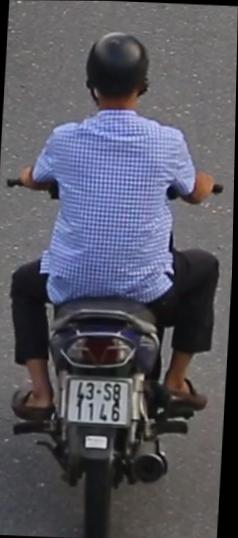LP: (65, 371, 137, 431)
helmet: (71, 25, 162, 128)
